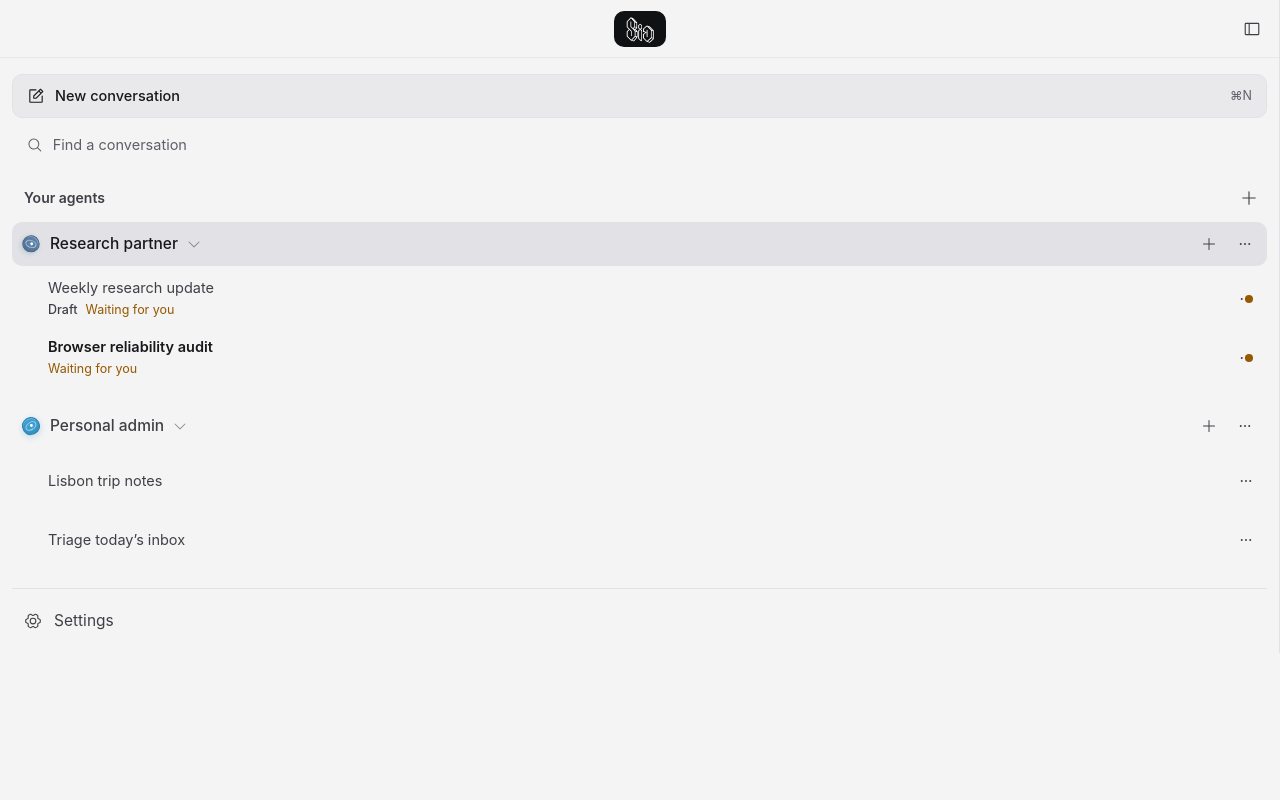
thread navigation › keeps draft and work cues in rows, with draft content and recency in the preview
Expected: the text "Draft" is shown, [48,302,78,319]
Expected: the text "Outline the release note before sending" is not shown
Focus the button "Weekly research update" at x=131, y=288, box [36,270,1226,327]
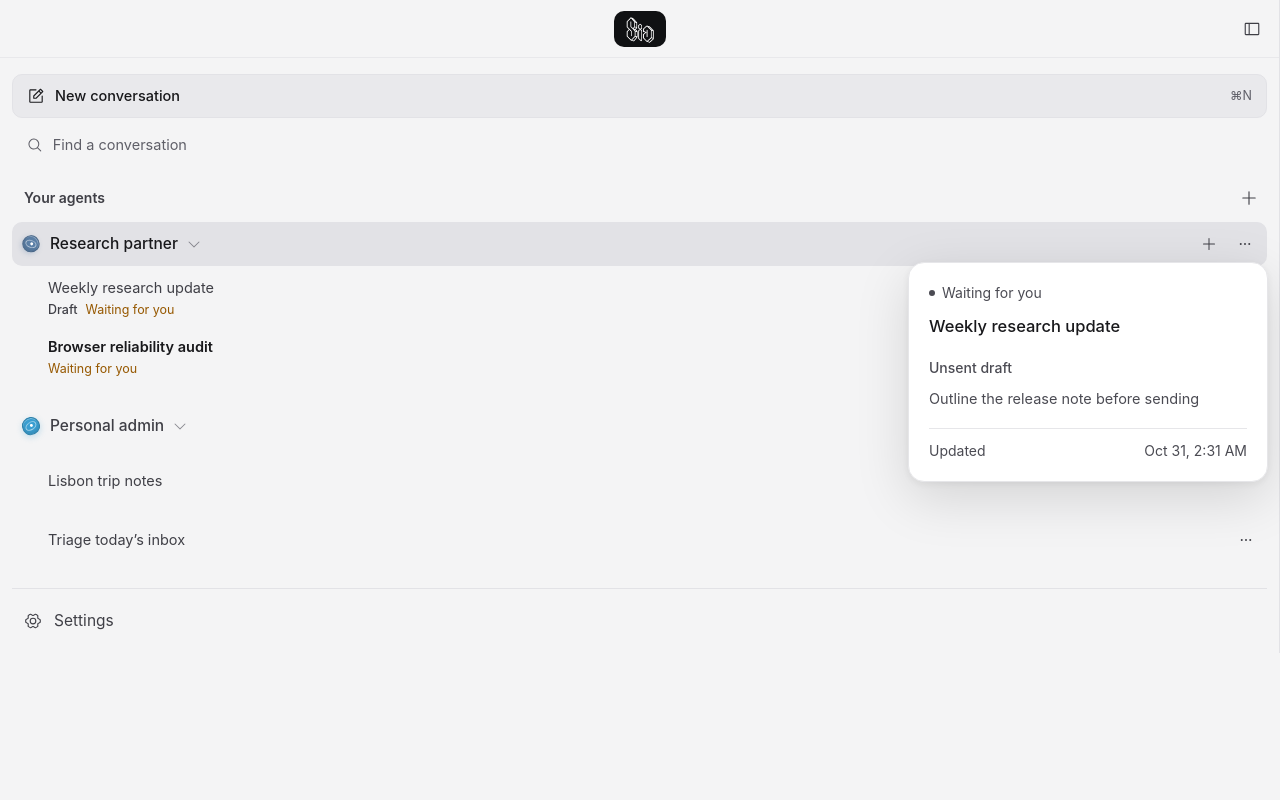
Now the tooltip shows "Outline the release note before sending", box [929,390,1199,407]
